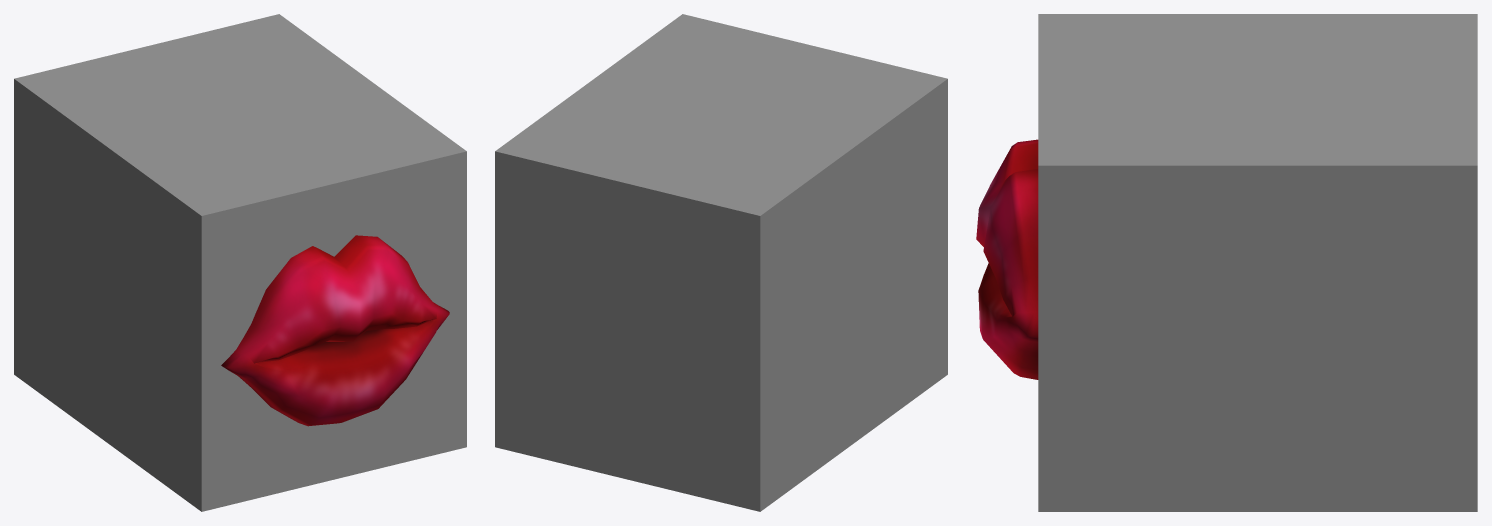
The model's file is lust_trap.FBX.
The picture shows the model from 3 angles, left to right: view 1: azimuth 30°, elevation 25°; view 2: azimuth 150°, elevation 25°; view 3: azimuth 270°, elevation 25°; orthographic projection. The views are drawn at different scales.
Parts seen in each view (by area): view 1: wall, mouth; view 2: wall; view 3: wall, mouth.
Part boxes in pixels (left/top/right/bottom): wall: left=14, top=14, right=466, bottom=511; mouth: left=221, top=235, right=449, bottom=426; wall: left=495, top=14, right=947, bottom=511; wall: left=1038, top=14, right=1477, bottom=511; mouth: left=976, top=139, right=1038, bottom=379.
Size of the model in its own units: 17.49 by 18.64 by 24.46.
2 materials, 1 textured.
